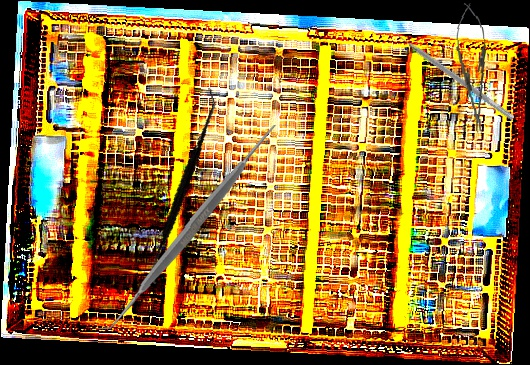Needle Holder: (452, 1, 494, 135)
Spatula Surgical: (91, 124, 292, 330), (111, 87, 252, 285), (391, 27, 519, 121)
